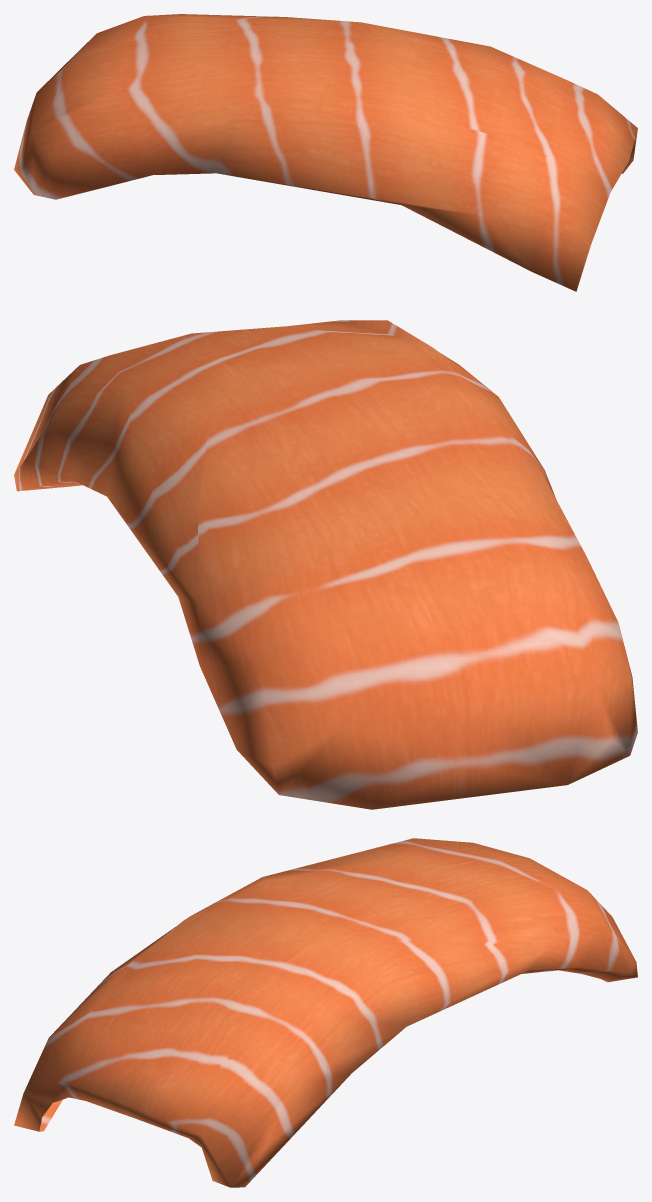
Rendered from salmonsashimi.fbx.
3 views of the same model, one above another, from view 1: azimuth 30°, elevation 25°; view 2: azimuth 150°, elevation 25°; view 3: azimuth 270°, elevation 25° (orthographic). The views are drawn at different scales.
Parts seen in each view (by area): view 1: Salmon 4; view 2: Salmon 4; view 3: Salmon 4.
Boxes of the visible parts, <box> form: Salmon 4: <box>14,14,637,291</box>; Salmon 4: <box>14,320,637,809</box>; Salmon 4: <box>14,838,637,1187</box>.
Bounding box in the file's own units: 101 × 31.64 × 102.
Materials: 1 (1 with a texture image).
